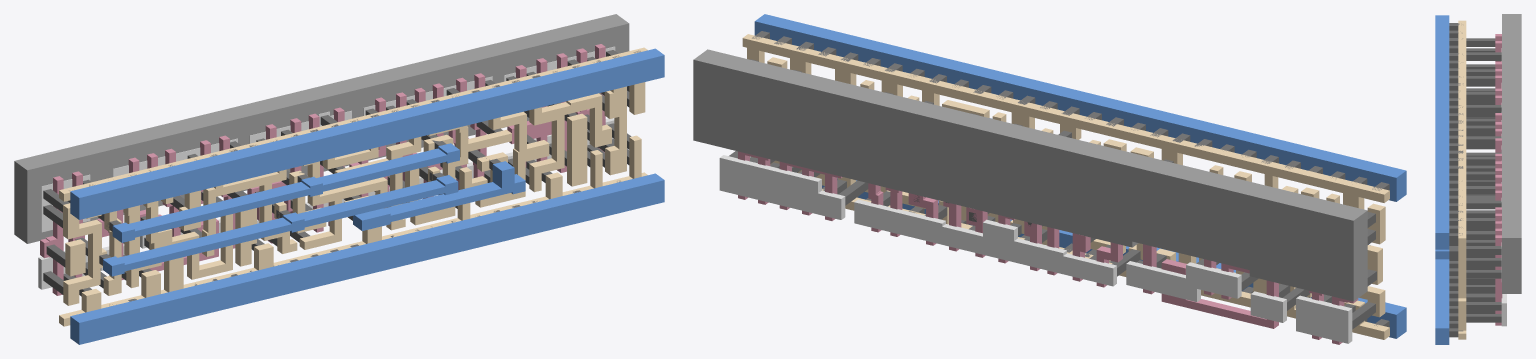
Rendered from sky130_fd_sc_hd__sdfrbp_2.gds.gltf.
3 views of the same model, side by side, from view 1: azimuth 30°, elevation 25°; view 2: azimuth 150°, elevation 25°; view 3: azimuth 270°, elevation 25° (orthographic). The views are drawn at different scales.
Visible parts, largest first — view 1: sky130_fd_sc_hd__sdfrbp_2_met1, sky130_fd_sc_hd__sdfrbp_2_li1, sky130_fd_sc_hd__sdfrbp_2_nwell, sky130_fd_sc_hd__sdfrbp_2_poly, sky130_fd_sc_hd__sdfrbp_2_licon, sky130_fd_sc_hd__sdfrbp_2_diff, sky130_fd_sc_hd__sdfrbp_2_mcon; view 2: sky130_fd_sc_hd__sdfrbp_2_nwell, sky130_fd_sc_hd__sdfrbp_2_li1, sky130_fd_sc_hd__sdfrbp_2_diff, sky130_fd_sc_hd__sdfrbp_2_met1, sky130_fd_sc_hd__sdfrbp_2_poly, sky130_fd_sc_hd__sdfrbp_2_licon, sky130_fd_sc_hd__sdfrbp_2_mcon; view 3: sky130_fd_sc_hd__sdfrbp_2_licon, sky130_fd_sc_hd__sdfrbp_2_nwell, sky130_fd_sc_hd__sdfrbp_2_met1, sky130_fd_sc_hd__sdfrbp_2_mcon, sky130_fd_sc_hd__sdfrbp_2_li1, sky130_fd_sc_hd__sdfrbp_2_poly, sky130_fd_sc_hd__sdfrbp_2_diff.
Boxes of the visible parts, x1=… form: sky130_fd_sc_hd__sdfrbp_2_met1: x1=70, y1=48, x2=664, y2=344; sky130_fd_sc_hd__sdfrbp_2_li1: x1=59, y1=47, x2=647, y2=326; sky130_fd_sc_hd__sdfrbp_2_nwell: x1=14, y1=14, x2=629, y2=243; sky130_fd_sc_hd__sdfrbp_2_poly: x1=40, y1=44, x2=605, y2=295; sky130_fd_sc_hd__sdfrbp_2_licon: x1=43, y1=50, x2=631, y2=296; sky130_fd_sc_hd__sdfrbp_2_diff: x1=38, y1=46, x2=615, y2=289; sky130_fd_sc_hd__sdfrbp_2_mcon: x1=69, y1=50, x2=640, y2=305; sky130_fd_sc_hd__sdfrbp_2_nwell: x1=693, y1=49, x2=1367, y2=301; sky130_fd_sc_hd__sdfrbp_2_li1: x1=742, y1=34, x2=1389, y2=339; sky130_fd_sc_hd__sdfrbp_2_diff: x1=719, y1=155, x2=1352, y2=343; sky130_fd_sc_hd__sdfrbp_2_met1: x1=754, y1=14, x2=1406, y2=338; sky130_fd_sc_hd__sdfrbp_2_poly: x1=738, y1=151, x2=1358, y2=344; sky130_fd_sc_hd__sdfrbp_2_licon: x1=729, y1=59, x2=1376, y2=329; sky130_fd_sc_hd__sdfrbp_2_mcon: x1=752, y1=31, x2=1389, y2=327; sky130_fd_sc_hd__sdfrbp_2_licon: x1=1466, y1=38, x2=1501, y2=322; sky130_fd_sc_hd__sdfrbp_2_nwell: x1=1502, y1=14, x2=1521, y2=293; sky130_fd_sc_hd__sdfrbp_2_met1: x1=1435, y1=15, x2=1449, y2=344; sky130_fd_sc_hd__sdfrbp_2_mcon: x1=1449, y1=23, x2=1463, y2=337; sky130_fd_sc_hd__sdfrbp_2_li1: x1=1458, y1=20, x2=1466, y2=339; sky130_fd_sc_hd__sdfrbp_2_poly: x1=1495, y1=34, x2=1502, y2=325; sky130_fd_sc_hd__sdfrbp_2_diff: x1=1501, y1=48, x2=1506, y2=326.
Size of the model in its own units: 13.72 by 3.2 by 2.24.
